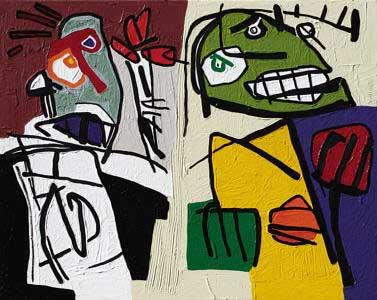person: (6, 4, 168, 300)
